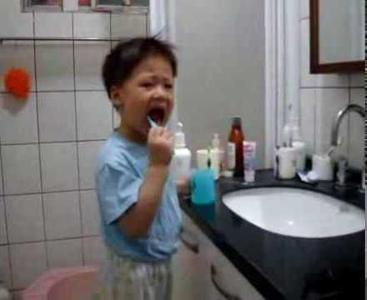person: (94, 37, 193, 300)
